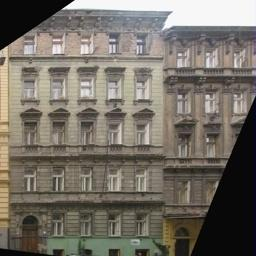building: (9, 9, 169, 256), (168, 22, 256, 256)
